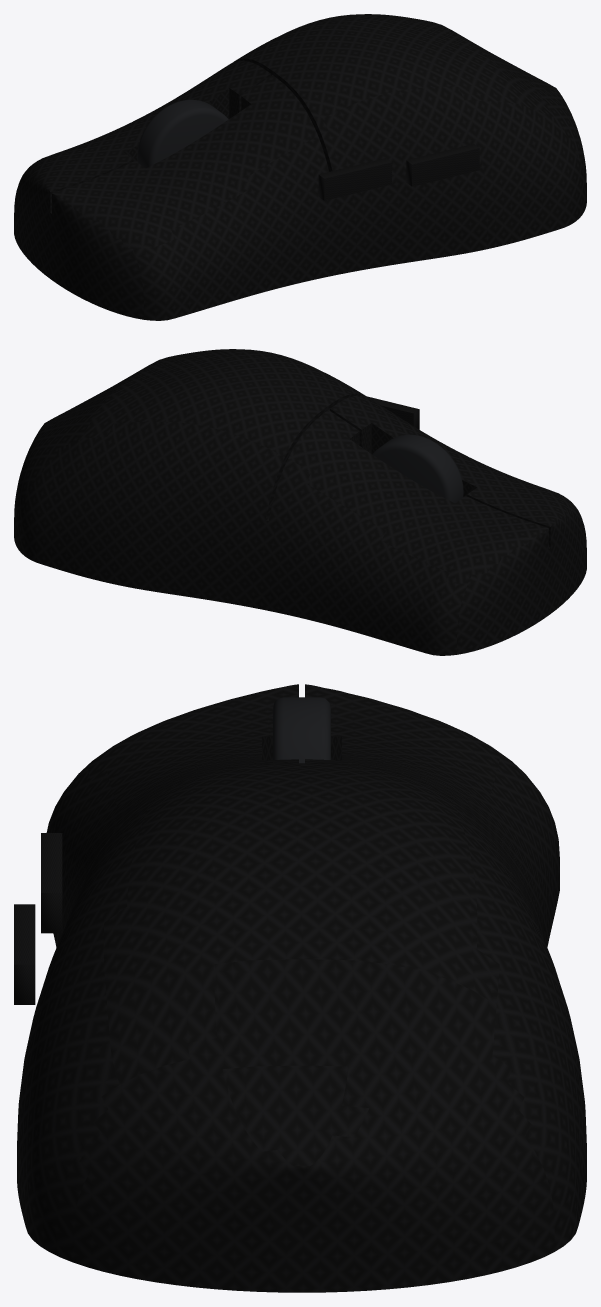
The model's file is mouse.glb.
3 views of the same model, one above another, from view 1: azimuth 30°, elevation 25°; view 2: azimuth 150°, elevation 25°; view 3: azimuth 270°, elevation 25° (orthographic). The views are drawn at different scales.
Parts seen in each view (by area): view 1: mouse, wheel, Cube, Cube.001; view 2: mouse, wheel, Cube; view 3: mouse, wheel, Cube.001, Cube.
Part boxes in pixels (box(x1,y1,x2,y2)): mouse: box(14, 14, 586, 320); wheel: box(137, 99, 228, 168); Cube: box(318, 158, 391, 200); Cube.001: box(406, 144, 479, 186); mouse: box(14, 349, 586, 655); wheel: box(372, 434, 463, 503); Cube: box(367, 396, 419, 429); mouse: box(17, 684, 586, 1292); wheel: box(273, 697, 330, 763); Cube.001: box(14, 904, 35, 1004); Cube: box(41, 833, 62, 933).
Bounding box in the file's own units: 0.1195 × 0.0385 × 0.0643.
Materials: 2 (1 with a texture image).
